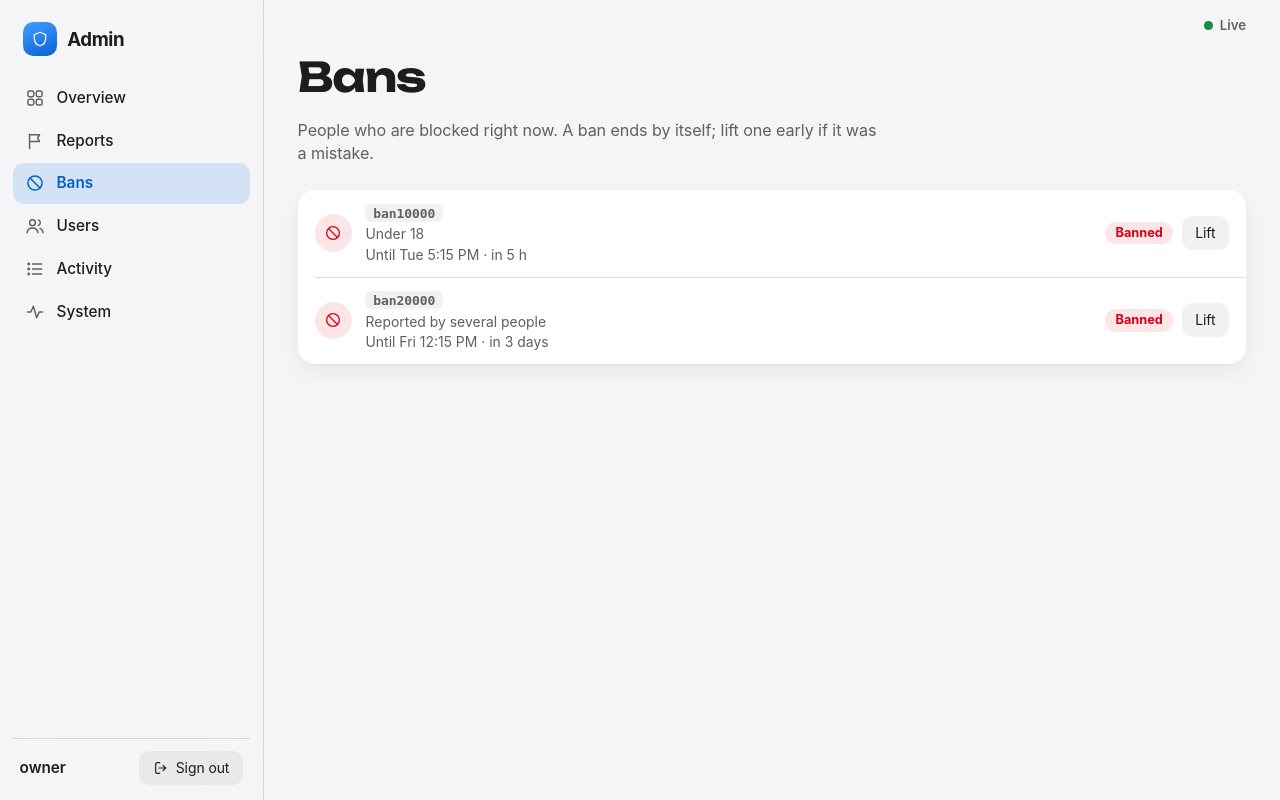
bans › says so, and refreshes, if the ban had already ended
Click the button with aria-label "Lift ban on ban10000". click: (1205, 233)
box: x1=1182 y1=216 x2=1229 y2=250
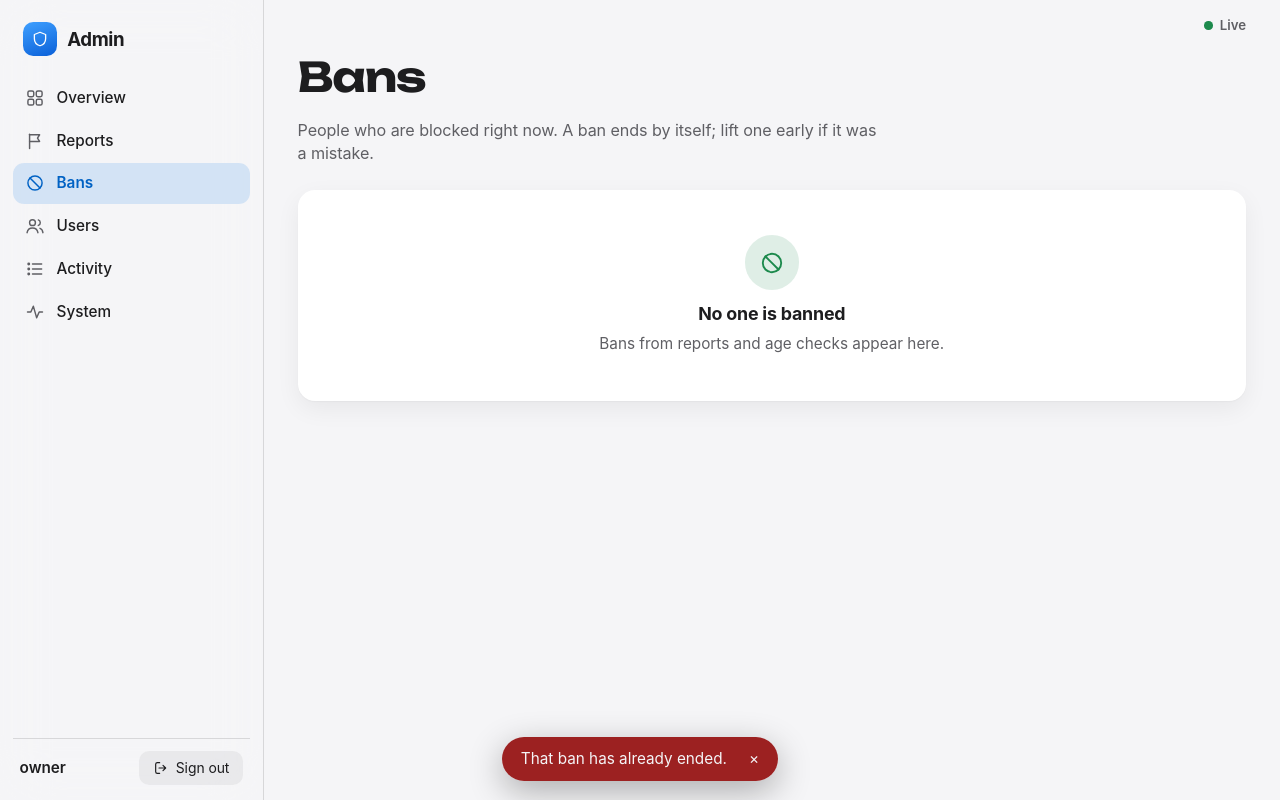
Expected: the text "That ban has already ended." is shown, x1=521 y1=748 x2=727 y2=770
Expected: the heading "No one is banned" is shown, x1=698 y1=301 x2=845 y2=327
